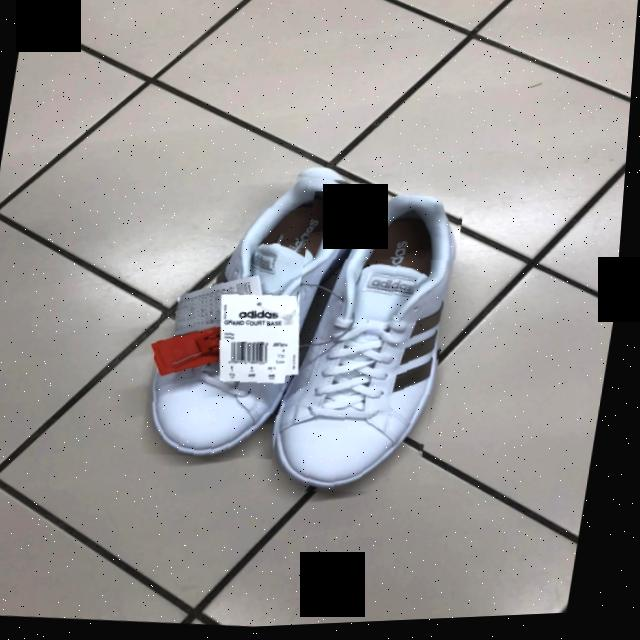shoe: (157, 179, 360, 459), (281, 198, 459, 495)
